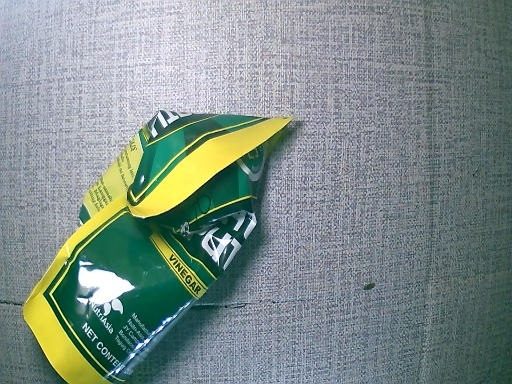plastic: (19, 111, 296, 384)
